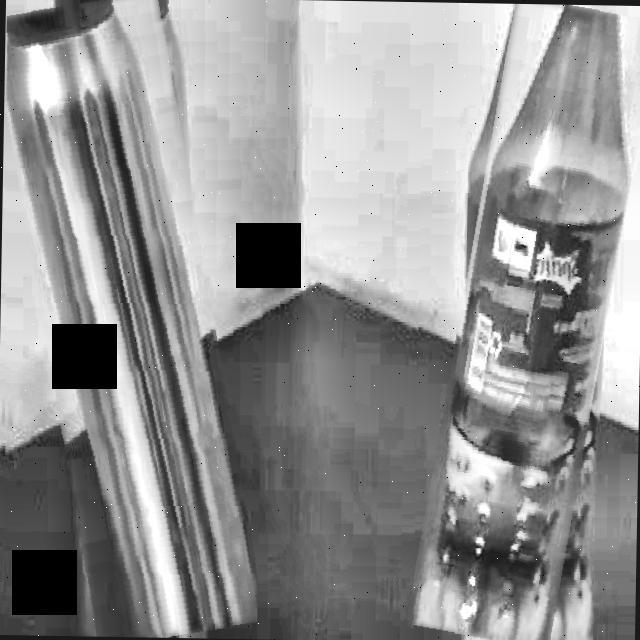bottle: (5, 0, 257, 637), (413, 4, 630, 640)
